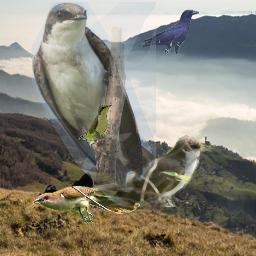Crow: (138, 9, 199, 58)
Cuckoo: (94, 135, 213, 207), (33, 186, 141, 224), (78, 104, 112, 145)
Swallow: (32, 2, 156, 189)
